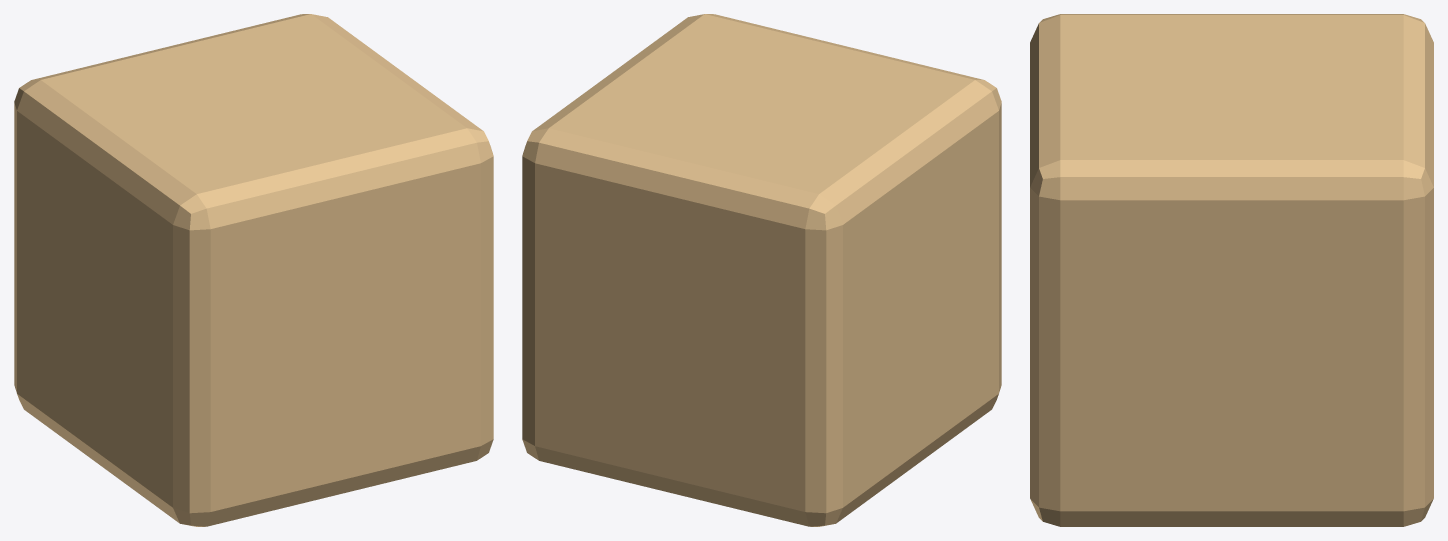
File: Block.glb
The picture shows the model from 3 angles, left to right: view 1: azimuth 30°, elevation 25°; view 2: azimuth 150°, elevation 25°; view 3: azimuth 270°, elevation 25°; orthographic projection. The views are drawn at different scales.
Parts seen in each view (by area): view 1: Cube; view 2: Cube; view 3: Cube.
Part boxes in pixels (left/top/right/bottom): Cube: left=14, top=14, right=493, bottom=526; Cube: left=522, top=14, right=1001, bottom=526; Cube: left=1030, top=14, right=1433, bottom=526.
Size of the model in its own units: 1 by 1 by 1.
